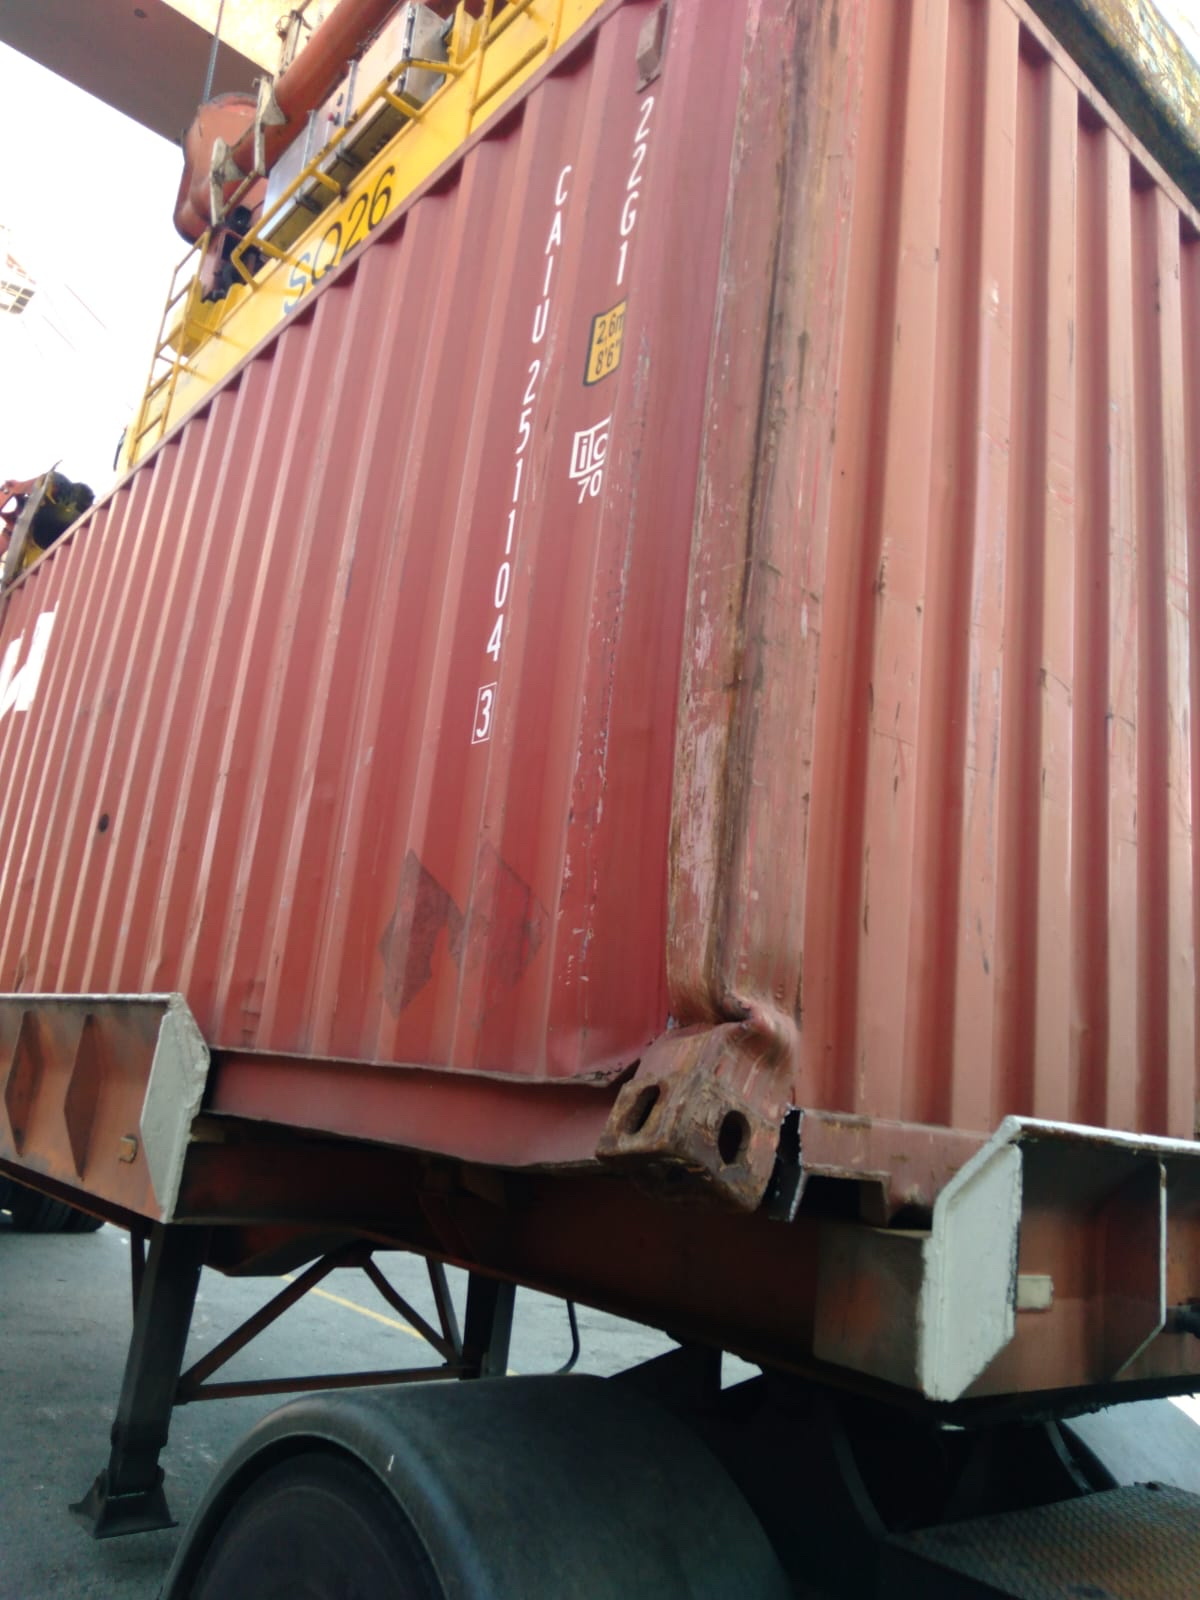corner_post: (589, 923, 891, 1291)
front_side: (764, 5, 1200, 1163)
right_side: (1, 1, 701, 1158)
